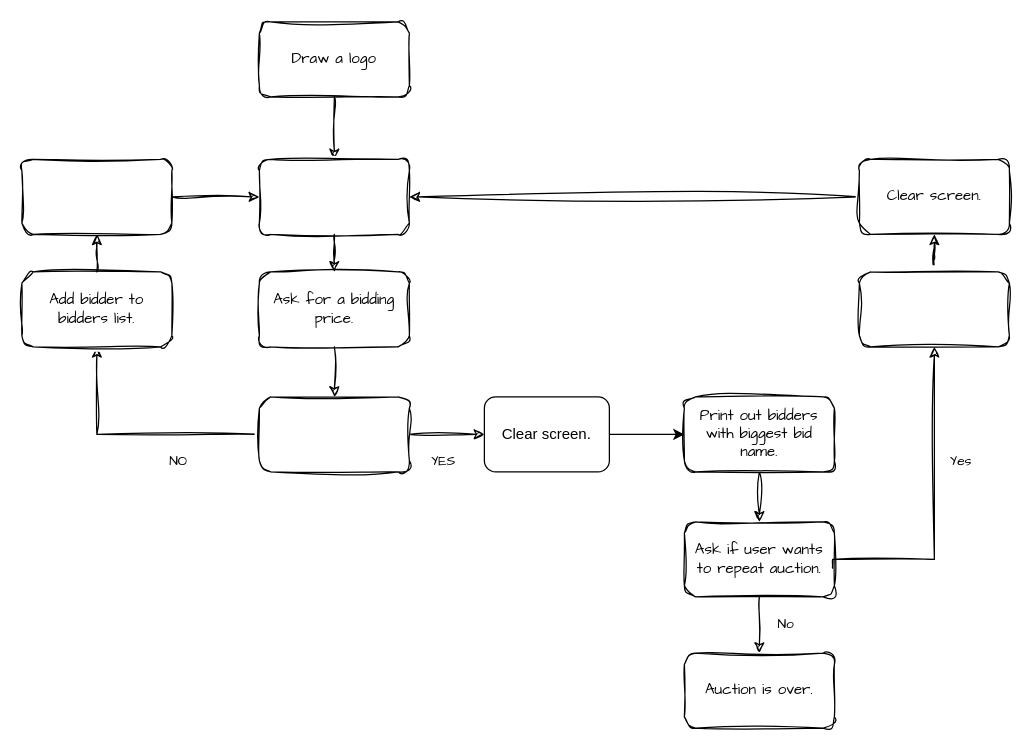
The diagram is 1031 pixels wide and 750 high, and some of its shapes have lost their labels. The shapes that lost their labels are listed below. From the top down, each one's centre as x and y in pixels, then its label:
the point at 96,196: Clear screen
the point at 333,196: Ask for a bidder name.
the point at 933,309: Clear data from previous bids.
the point at 333,434: Ask if it is the last bidder.
